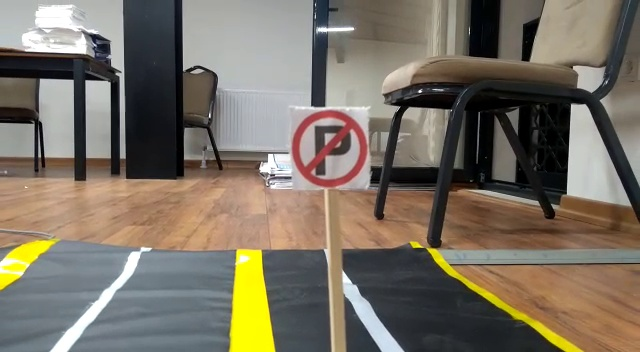park_yapilmaz: (290, 107, 368, 185)
